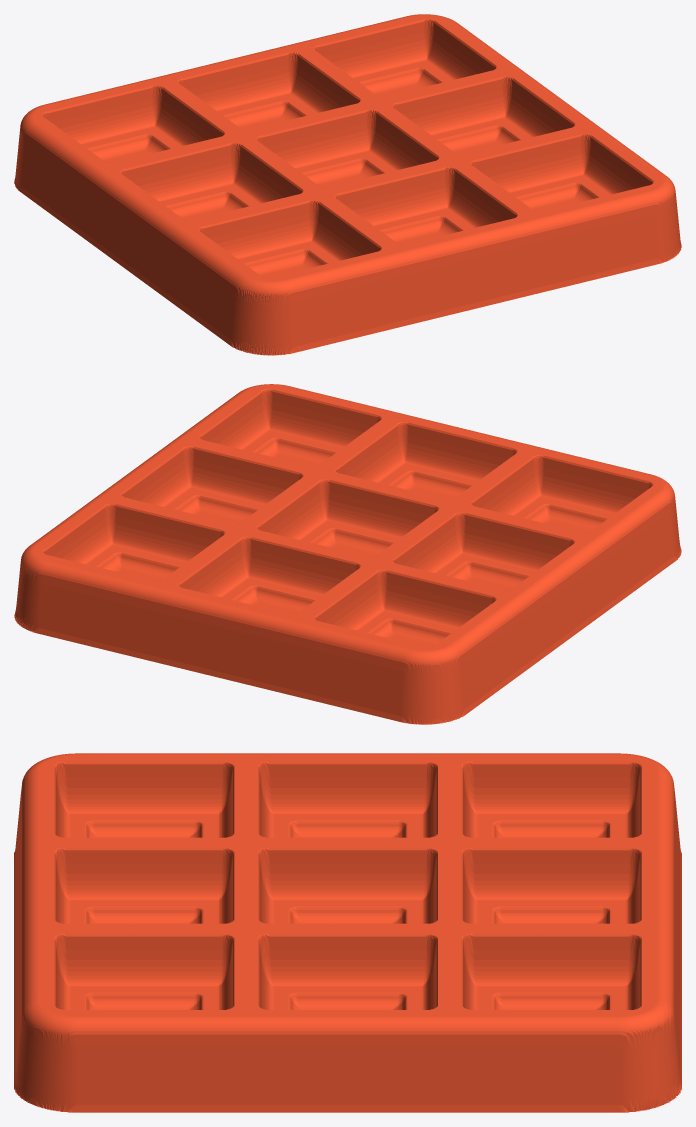
The model's file is mold.glb.
The picture shows the model from 3 angles, top to bottom: view 1: azimuth 30°, elevation 25°; view 2: azimuth 150°, elevation 25°; view 3: azimuth 270°, elevation 25°; orthographic projection. The views are drawn at different scales.
Parts seen in each view (by area): view 1: geometry_0; view 2: geometry_0; view 3: geometry_0.
Part boxes in pixels (<box>): geometry_0: <box>14,14,681,355</box>; geometry_0: <box>14,384,681,724</box>; geometry_0: <box>14,753,681,1112</box>.
Size of the model in its own units: 0.0964 by 0.0136 by 0.0964.
